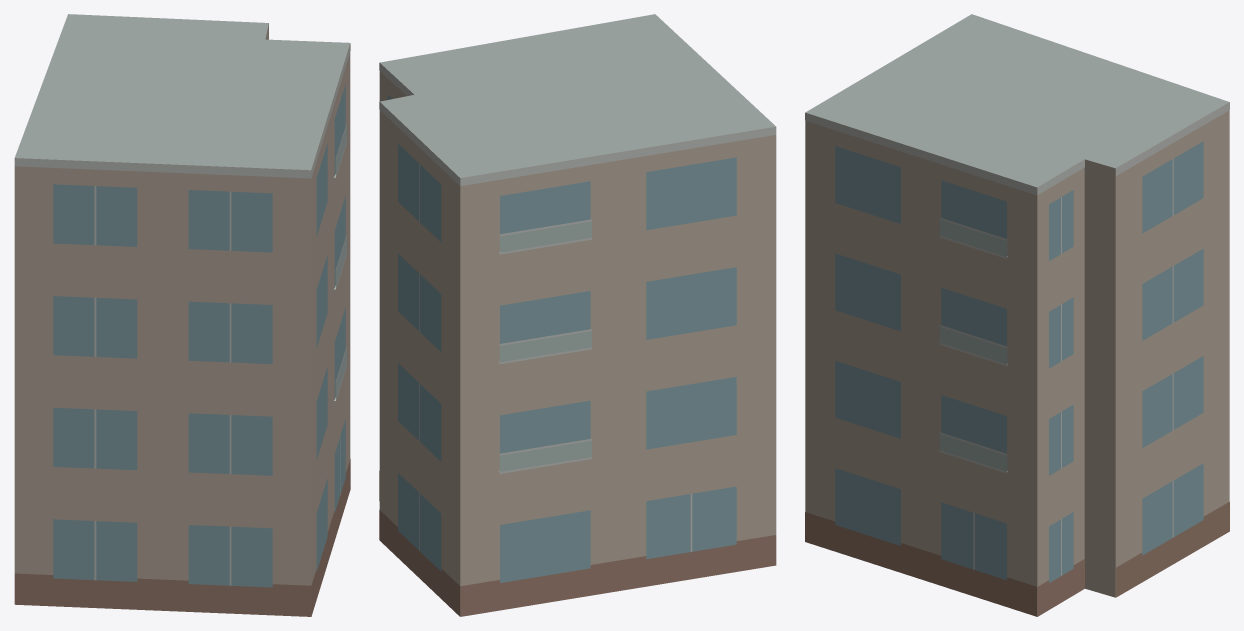
The model's file is survey-upis-33036631.glb.
3 views of the same model, side by side, from view 1: azimuth 30°, elevation 25°; view 2: azimuth 150°, elevation 25°; view 3: azimuth 270°, elevation 25° (orthographic). The views are drawn at different scales.
Parts seen in each view (by area): view 1: survey-upis-33036631.tmp; view 2: survey-upis-33036631.tmp; view 3: survey-upis-33036631.tmp.
Part boxes in pixels (x1=…): survey-upis-33036631.tmp: x1=14, y1=14, x2=350, y2=616; survey-upis-33036631.tmp: x1=379, y1=14, x2=776, y2=616; survey-upis-33036631.tmp: x1=805, y1=14, x2=1229, y2=616.
Size of the model in its own units: 11.45 by 13.2 by 11.84.
